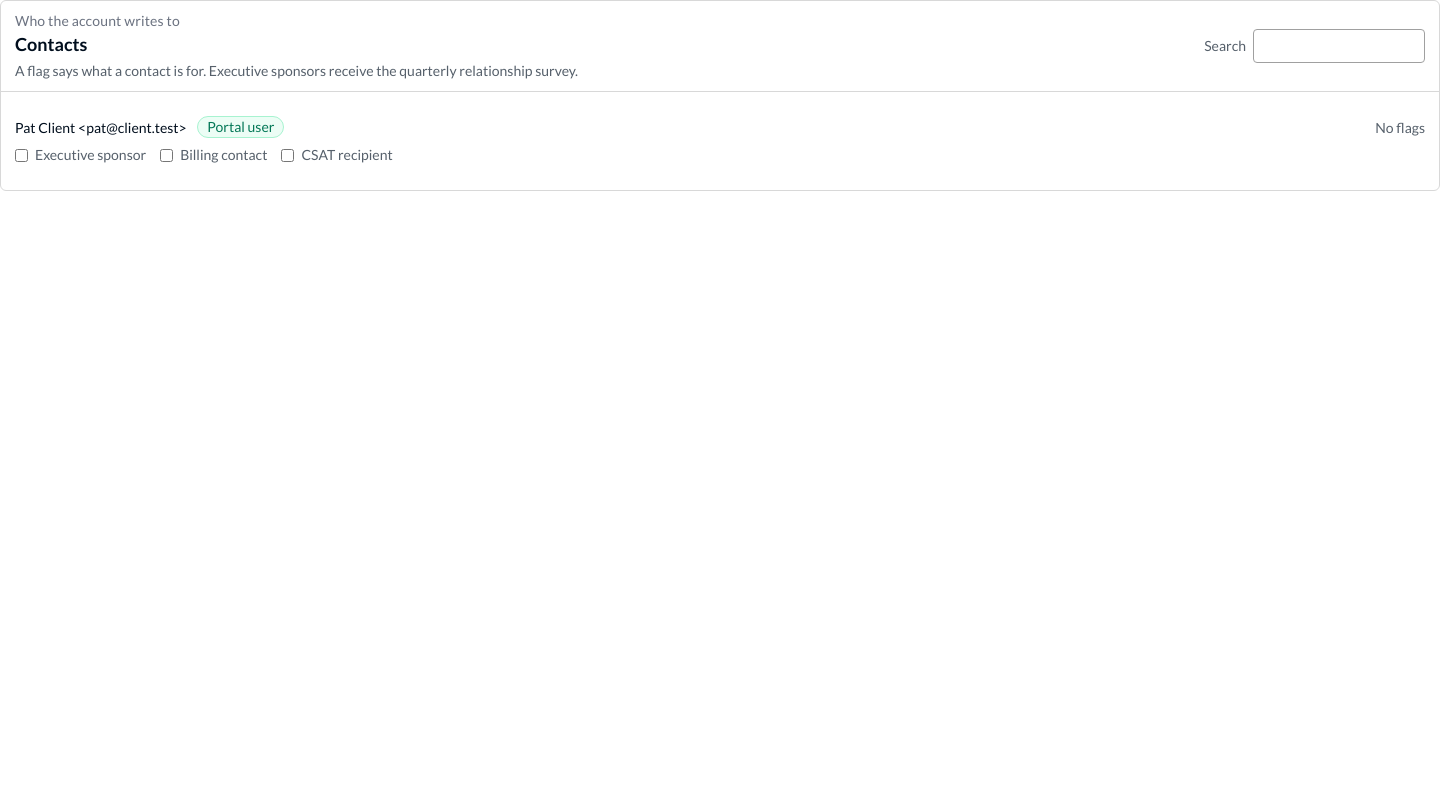
Test case: AccountContactsTab › words a stale version and reads the list again
This screenshot has width=1440, height=810.
Click the checkbox labelled "CSAT recipient" at (288, 155), box left=281, top=149, right=294, bottom=162
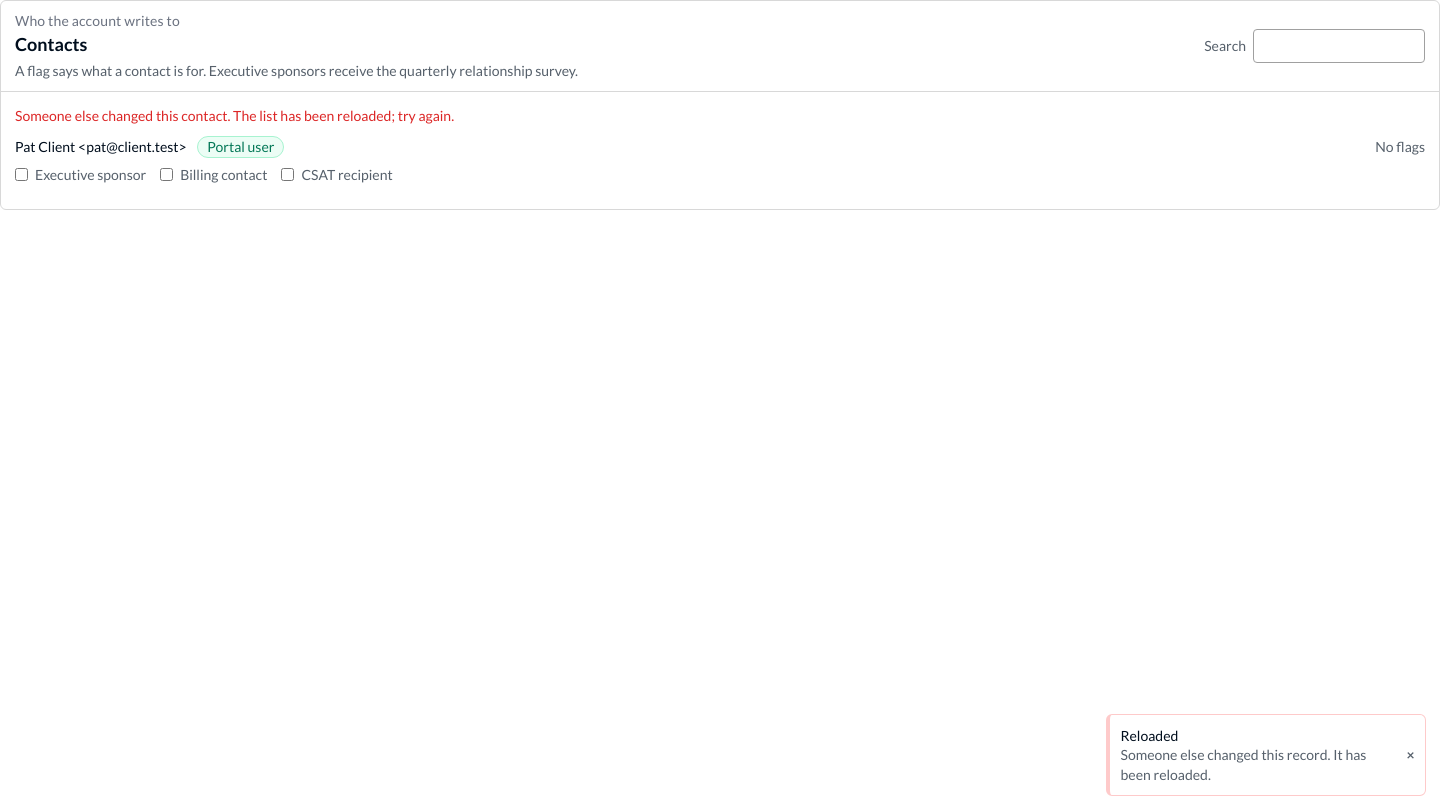
Result: the message "Someone else changed this contact. The list has been reloaded; try again." is shown at left=15, top=107, right=454, bottom=124
